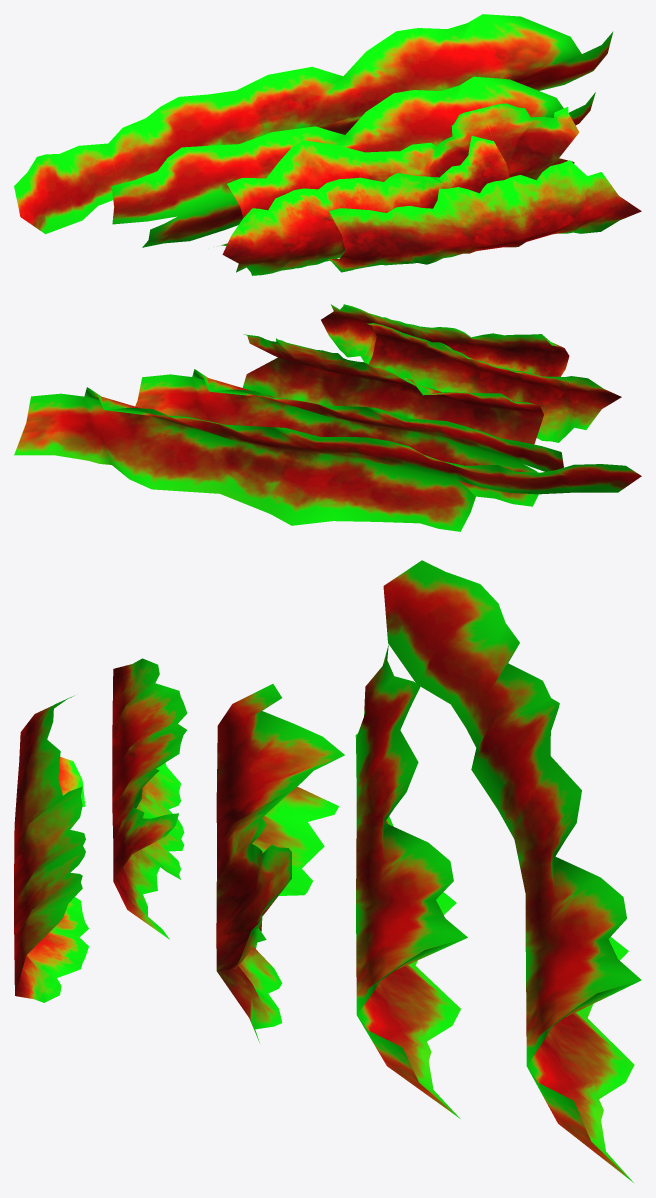
File: clouds.glb
The picture shows the model from 3 angles, top to bottom: view 1: azimuth 30°, elevation 25°; view 2: azimuth 150°, elevation 25°; view 3: azimuth 270°, elevation 25°; orthographic projection. The views are drawn at different scales.
Parts seen in each view (by area): view 1: CloudsScene; view 2: CloudsScene; view 3: CloudsScene.
Boxes of the visible parts, x1,y1,x2,y2 form: CloudsScene: [14, 14, 641, 275]; CloudsScene: [14, 304, 641, 531]; CloudsScene: [14, 560, 641, 1182].
Bounding box in the file's own units: 76.82 × 13.09 × 42.09.
1 material, 1 textured.
